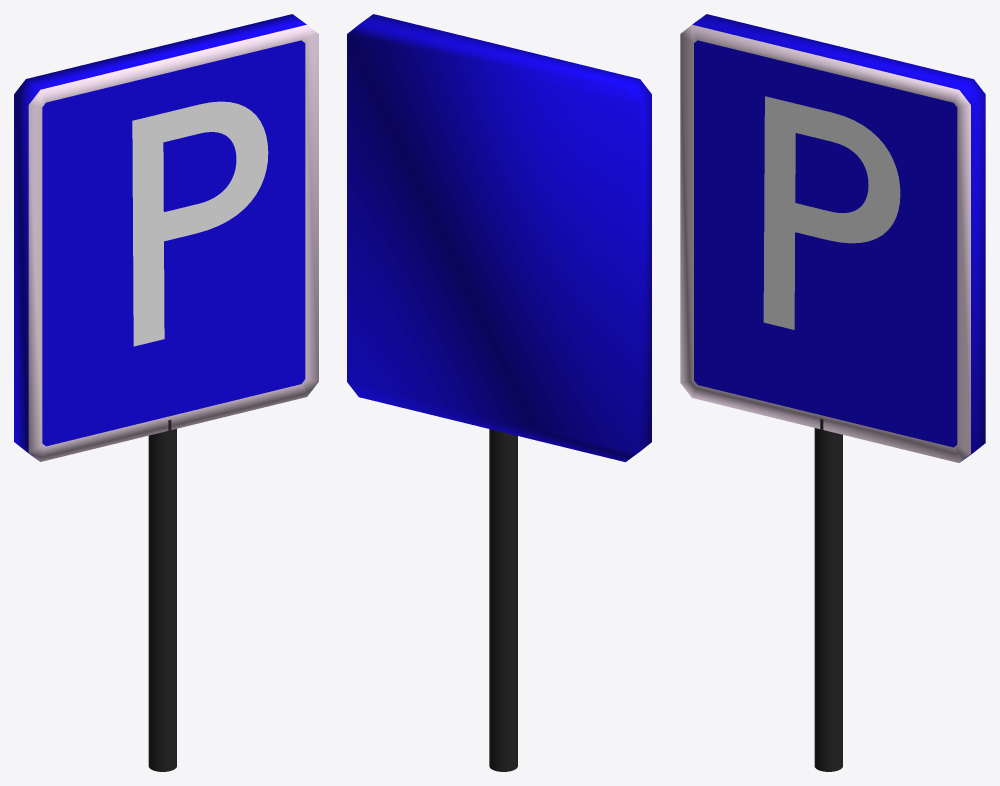
Rendered from sign_parking.glb.
The picture shows the model from 3 angles, left to right: view 1: azimuth 30°, elevation 25°; view 2: azimuth 150°, elevation 25°; view 3: azimuth 330°, elevation 25°; orthographic projection.
Parts seen in each view (by area): view 1: Object_3, Object_2, Object_5, Object_4; view 2: Object_3, Object_4; view 3: Object_3, Object_2, Object_5, Object_4.
Boxes of the visible parts, x1=… form: Object_3: x1=14, y1=14, x2=306, y2=460; Object_2: x1=28, y1=25, x2=318, y2=461; Object_5: x1=132, y1=101, x2=268, y2=346; Object_4: x1=148, y1=420, x2=176, y2=771; Object_3: x1=347, y1=14, x2=651, y2=462; Object_4: x1=489, y1=429, x2=517, y2=771; Object_3: x1=692, y1=14, x2=985, y2=461; Object_2: x1=680, y1=24, x2=970, y2=462; Object_5: x1=763, y1=96, x2=900, y2=329; Object_4: x1=814, y1=419, x2=842, y2=771.
Bounding box in the file's own units: 13.27 × 31.17 × 2.02.
